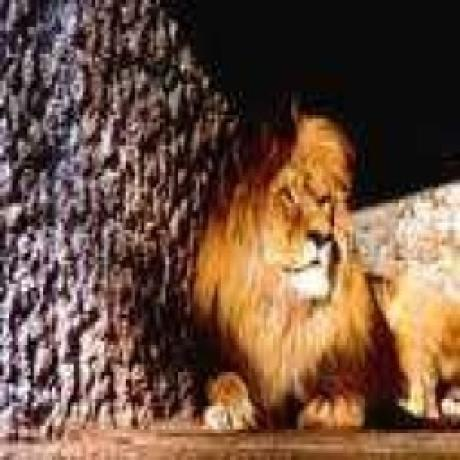Lion: (191, 104, 460, 434)
